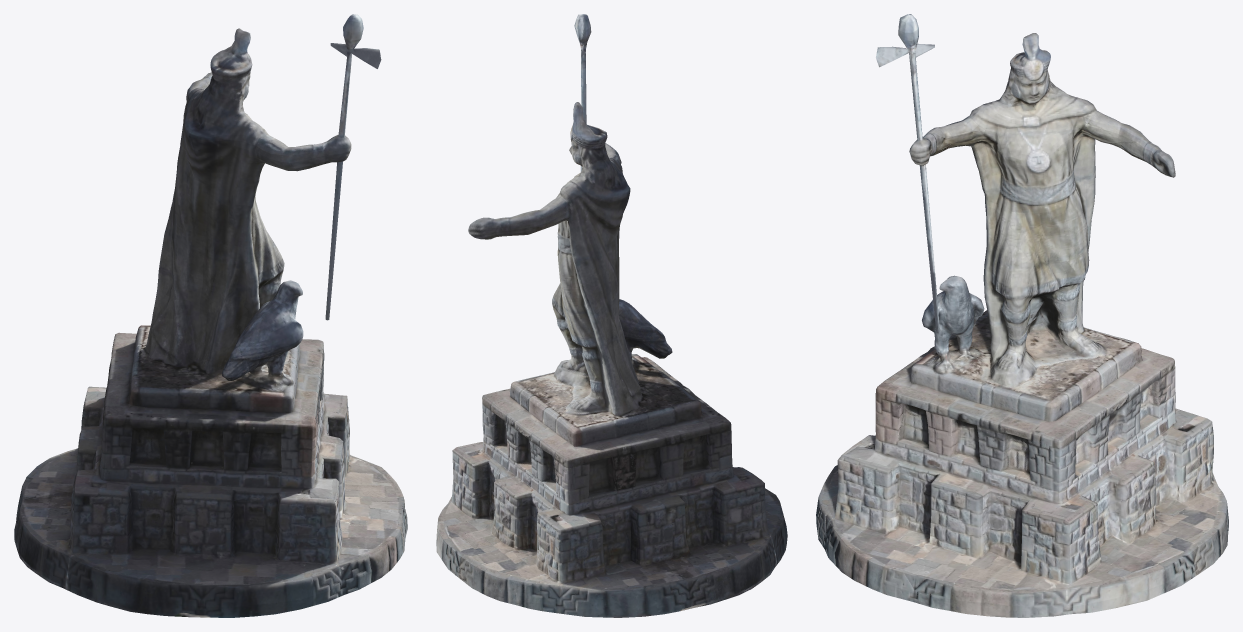
File: estatua_del_inca.glb
3 views of the same model, side by side, from view 1: azimuth 30°, elevation 25°; view 2: azimuth 150°, elevation 25°; view 3: azimuth 270°, elevation 25° (orthographic). The views are drawn at different scales.
Parts seen in each view (by area): view 1: Box001_01 - Default_0; view 2: Box001_01 - Default_0; view 3: Box001_01 - Default_0.
Part boxes in pixels (bbox=[...]): Box001_01 - Default_0: bbox=[14, 14, 407, 617]; Box001_01 - Default_0: bbox=[436, 14, 787, 617]; Box001_01 - Default_0: bbox=[816, 14, 1228, 617].
Size of the model in its own units: 80.12 by 119 by 79.76.
Materials: 1 (1 with a texture image).
